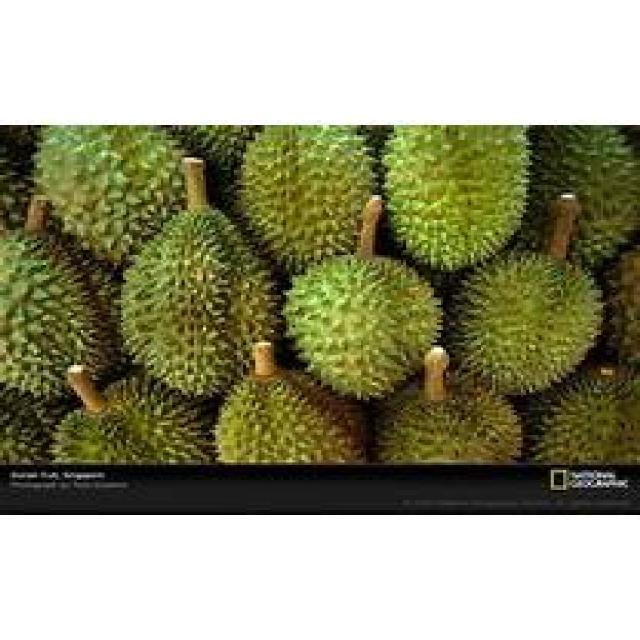fruit: (99, 188, 308, 428), (274, 230, 461, 428), (430, 228, 622, 420), (372, 122, 551, 292), (218, 120, 397, 288), (200, 353, 378, 495), (511, 340, 640, 492)
